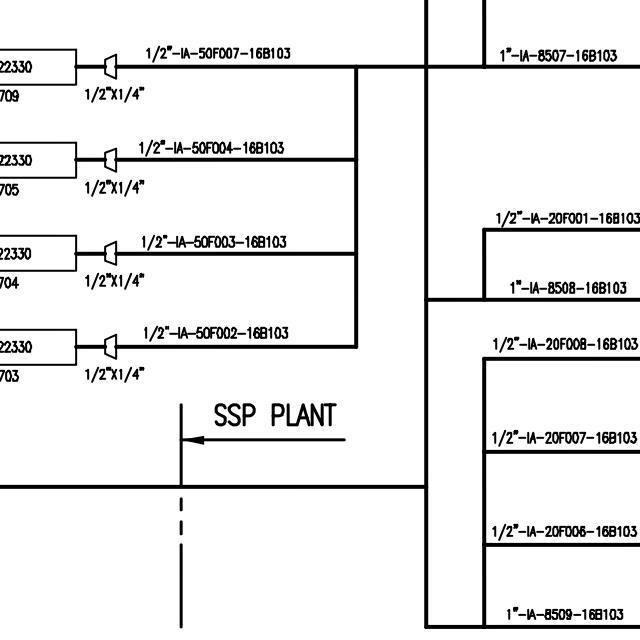SP: (99, 49, 120, 82), (100, 330, 119, 363), (100, 238, 120, 269), (102, 145, 118, 174)
